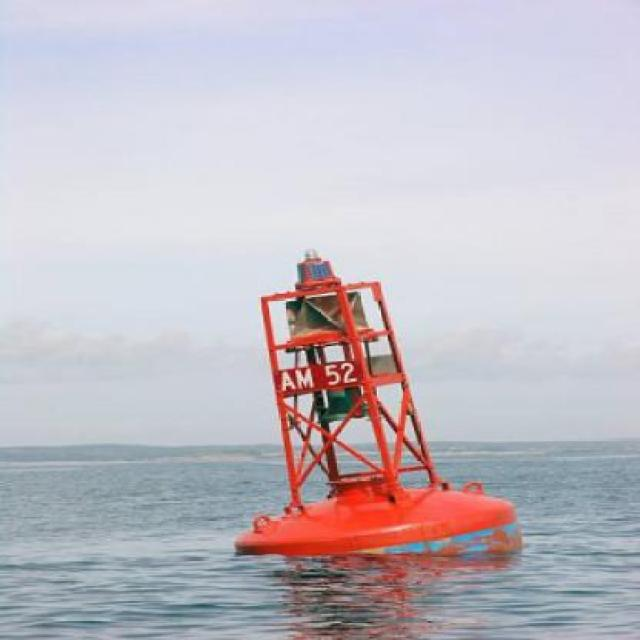buoy: (229, 243, 532, 567)
